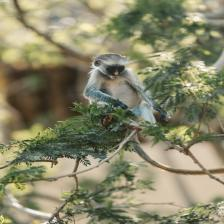monkey: (84, 50, 170, 140)
